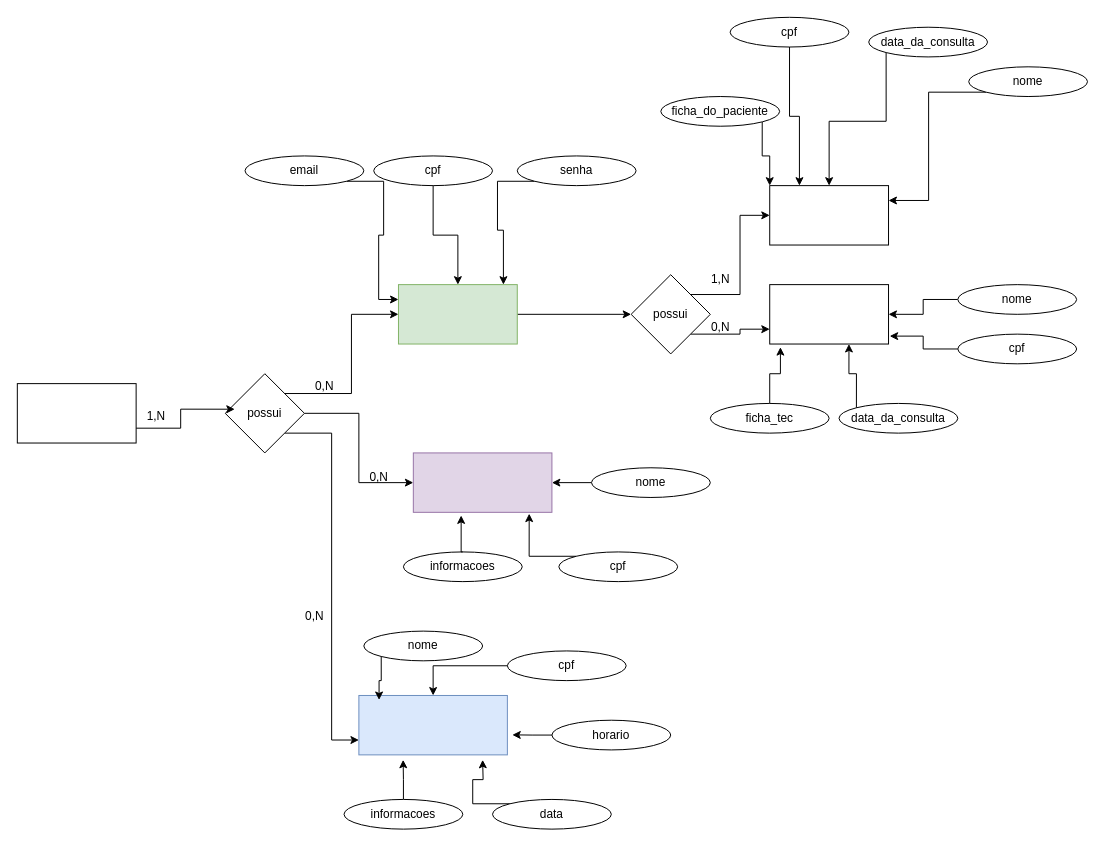
The diagram is 1105 pixels wide and 846 high, and some of its shapes have lost their labels. The shapes that lost their labels are listed below. From the top down, each one's box as (x1, y1, x2, y2) in pixels, then its label:
(769, 185, 889, 245): medico
(397, 284, 517, 344): cadastro_de_usuario
(769, 284, 889, 344): paciente
(16, 383, 136, 443): sistema
(412, 452, 552, 512): pontuaria/ficha_paciente
(358, 694, 507, 755): agendamento_consulta
